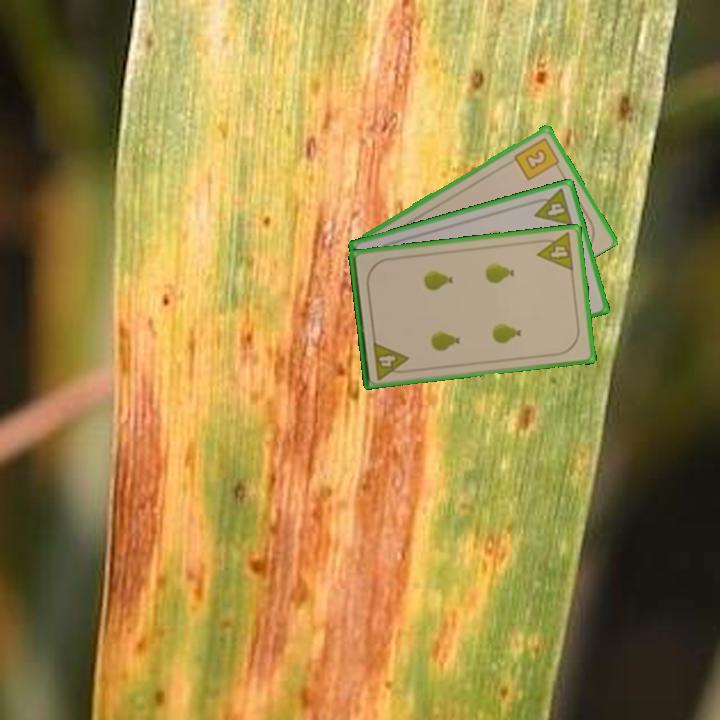2b: (511, 134, 563, 183)
4p: (527, 185, 576, 229), (533, 229, 576, 274), (369, 338, 412, 382)
